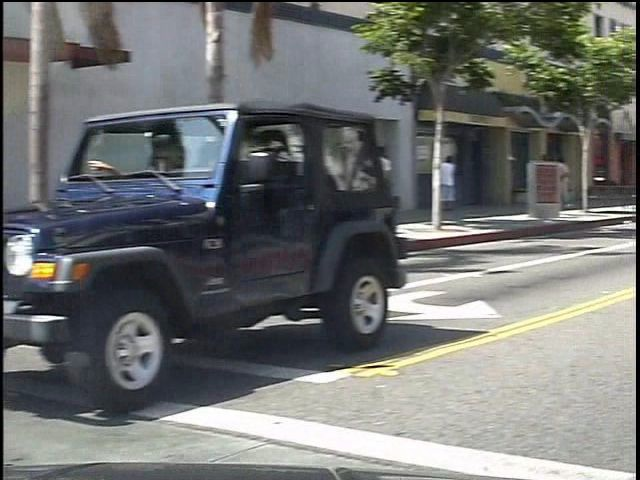person: (453, 146, 477, 228)
